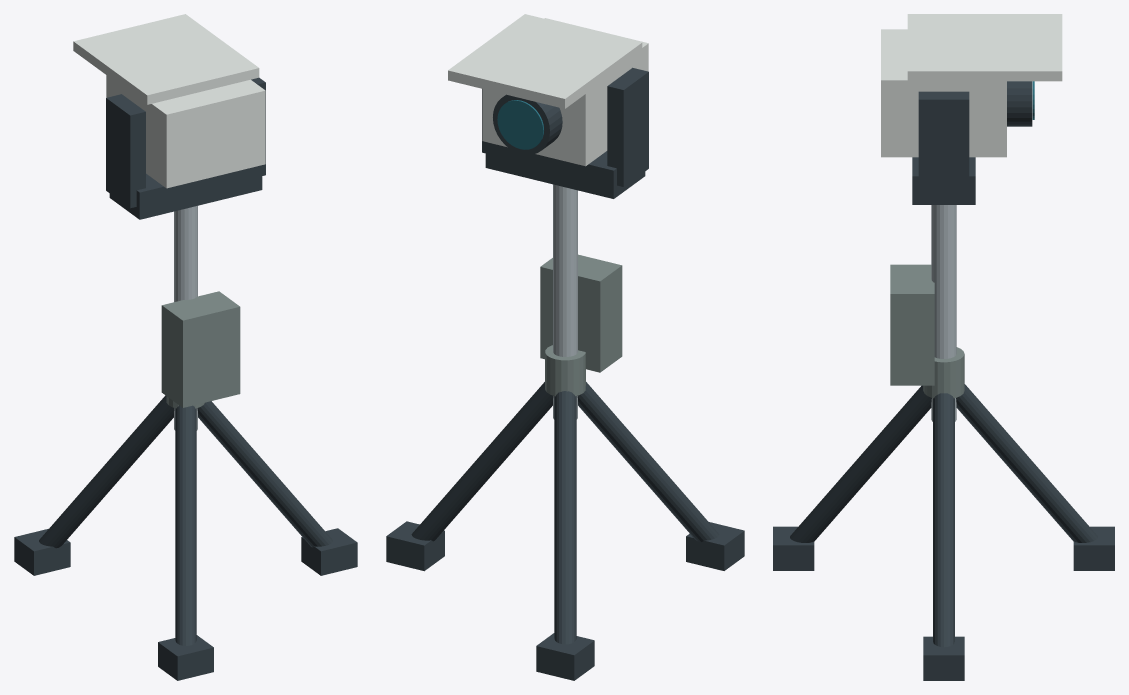
Rendered from eo_camera.glb.
3 views of the same model, side by side, from view 1: azimuth 30°, elevation 25°; view 2: azimuth 150°, elevation 25°; view 3: azimuth 270°, elevation 25° (orthographic). The views are drawn at different scales.
Visible parts, largest first — view 1: camera_housing, sun_hood, electronics, tripod_leg_2, tripod_leg_1, yoke_arm, tripod_leg_0, yoke_base, mast, rubber_foot_2, rubber_foot_0, rubber_foot_1; view 2: sun_hood, electronics, tripod_leg_1, camera_housing, tripod_leg_2, tripod_leg_0, yoke_arm, mast, yoke_base, rubber_foot_1, rubber_foot_0, rubber_foot_2 (+3 smaller); view 3: sun_hood, camera_housing, tripod_leg_0, yoke_arm, electronics, tripod_leg_1, tripod_leg_2, mast, rubber_foot_0, rubber_foot_1, rubber_foot_2, collar (+2 smaller).
Part boxes in pixels (left/top/right/bottom): camera_housing: left=106, top=75, right=265, bottom=188; sun_hood: left=73, top=14, right=259, bottom=104; electronics: left=161, top=291, right=240, bottom=407; tripod_leg_2: left=175, top=405, right=196, bottom=645; tripod_leg_1: left=39, top=395, right=174, bottom=548; yoke_arm: left=106, top=94, right=145, bottom=208; tripod_leg_0: left=197, top=401, right=332, bottom=547; yoke_base: left=109, top=165, right=262, bottom=219; mast: left=174, top=205, right=197, bottom=430; rubber_foot_2: left=158, top=635, right=213, bottom=680; rubber_foot_0: left=301, top=528, right=357, bottom=575; rubber_foot_1: left=14, top=528, right=70, bottom=575; sun_hood: left=448, top=14, right=642, bottom=108; electronics: left=540, top=254, right=622, bottom=372; tripod_leg_1: left=554, top=391, right=576, bottom=644; camera_housing: left=482, top=18, right=648, bottom=166; tripod_leg_2: left=577, top=382, right=719, bottom=542; tripod_leg_0: left=411, top=382, right=553, bottom=541; yoke_arm: left=607, top=67, right=648, bottom=186; mast: left=553, top=184, right=577, bottom=419; yoke_base: left=485, top=142, right=645, bottom=198; rubber_foot_1: left=536, top=633, right=594, bottom=680; rubber_foot_0: left=386, top=521, right=444, bottom=571; rubber_foot_2: left=686, top=522, right=744, bottom=570; sun_hood: left=907, top=14, right=1062, bottom=81; camera_housing: left=881, top=29, right=1006, bottom=157; tripod_leg_0: left=933, top=393, right=954, bottom=647; yoke_arm: left=918, top=91, right=969, bottom=196; electronics: left=890, top=264, right=934, bottom=385; tripod_leg_1: left=956, top=384, right=1097, bottom=542; tripod_leg_2: left=790, top=385, right=931, bottom=542; mast: left=931, top=205, right=956, bottom=421; rubber_foot_0: left=923, top=636, right=964, bottom=680; rubber_foot_1: left=1073, top=526, right=1114, bottom=570; rubber_foot_2: left=773, top=526, right=814, bottom=570; collar: left=923, top=347, right=964, bottom=398.
Size of the model in its own units: 0.965 by 1.94 by 1.08.
